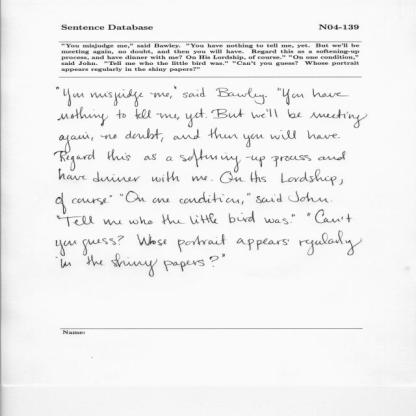Handwritten text: (42, 230, 364, 256), (51, 85, 355, 108), (44, 108, 374, 128), (58, 210, 356, 230), (50, 148, 352, 167), (40, 127, 340, 146), (56, 169, 338, 189), (47, 188, 329, 208), (50, 256, 207, 285)
